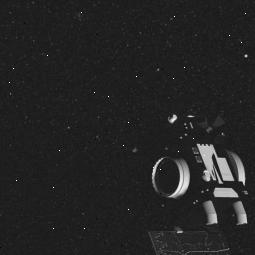proba_3_csc: (131, 101, 255, 255)
